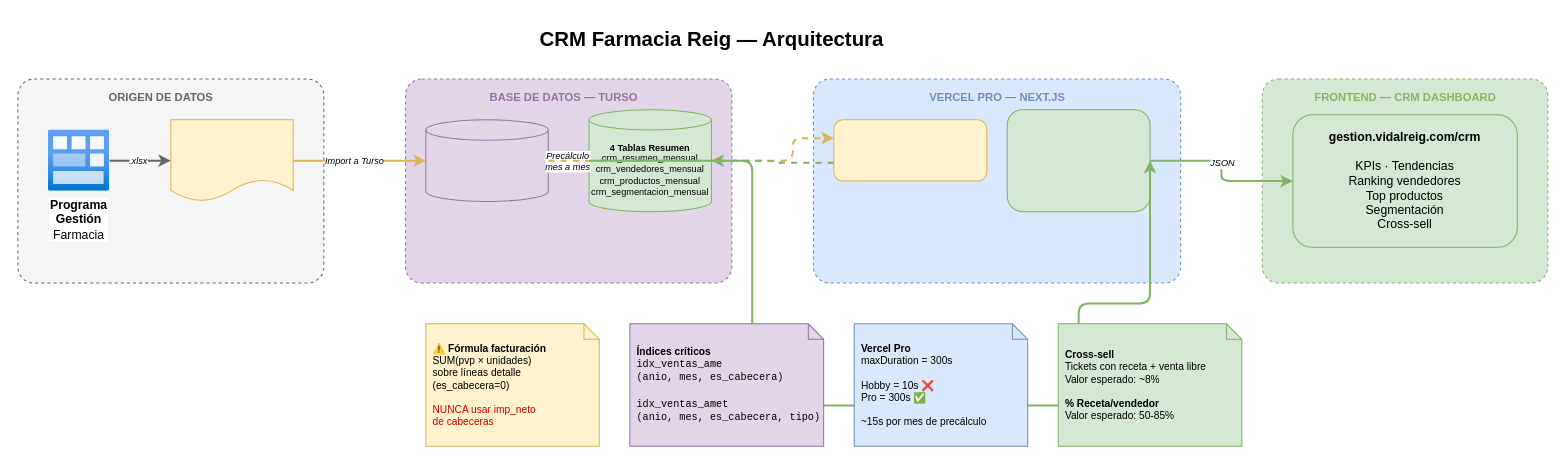
The diagram is 1566 pixels wide and 464 high, and some of its shapes have lost their labels. Here are the shapes that lost their labels. From the top down, the centre of each, then its label:
the point at 231,160: Exportación Diario de ventas (.xlsx)
the point at 486,160: ventas ~1.28M filas cabeceras + detalle
the point at 910,150: /api/crm/precalcular route.ts maxDuration=300s
the point at 1078,160: API Lectura /resumen /tendencia /vendedores /segmentacion /productos
